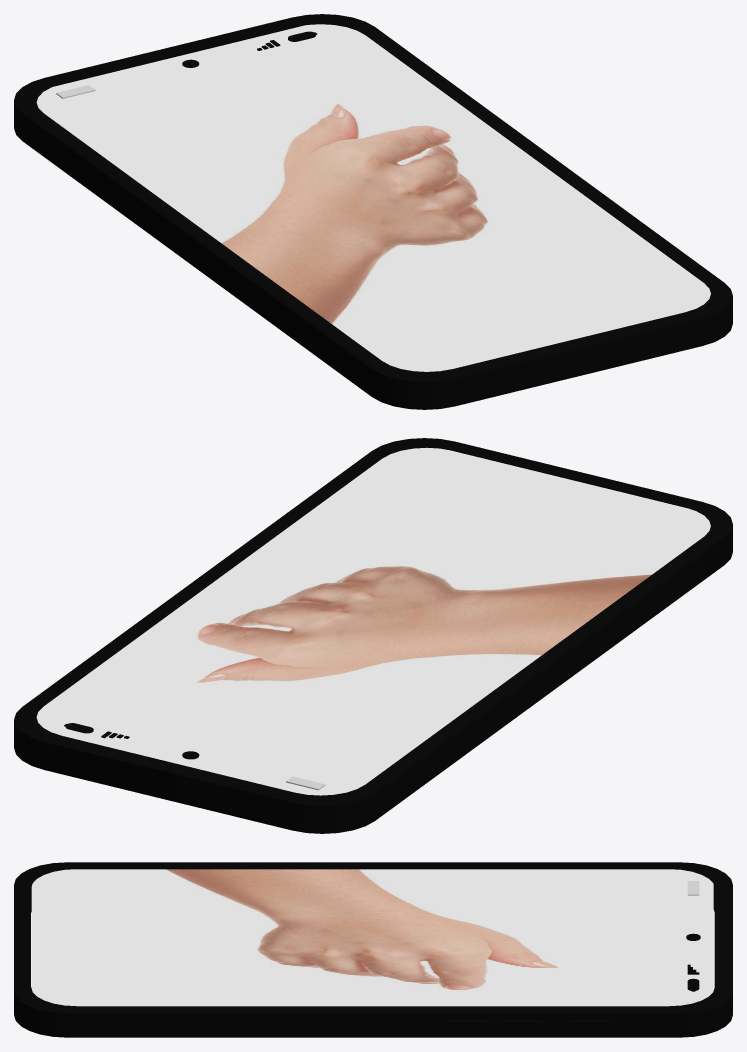
Rendered from RringConfiguratorPhone.glb.
3 renders of one model, top to bottom at view 1: azimuth 30°, elevation 25°; view 2: azimuth 150°, elevation 25°; view 3: azimuth 270°, elevation 25°, orthographic. The views are drawn at different scales.
Visible parts, largest first — view 1: womansHand, PhoneBody; view 2: womansHand, PhoneBody; view 3: womansHand, PhoneBody, PowerBtn, VolumeUpBtn, VolumeDownBtn.
Boxes of the visible parts, x1,y1,x2,y2 form: womansHand: (36,24,710,371); PhoneBody: (14,14,732,409); womansHand: (36,447,710,795); PhoneBody: (14,438,732,833); womansHand: (31,869,713,1006); PhoneBody: (14,862,732,1037); PowerBtn: (564,1020,612,1032); VolumeUpBtn: (496,1020,543,1032); VolumeDownBtn: (443,1020,490,1032).
Size of the model in its own units: 0.2384 by 0.0187 by 0.4741.
2 materials, 1 textured.
